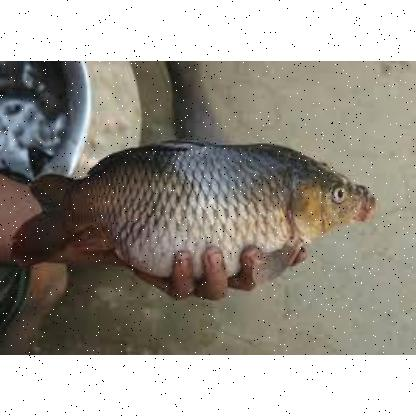ikan-mas: (12, 133, 380, 291)
